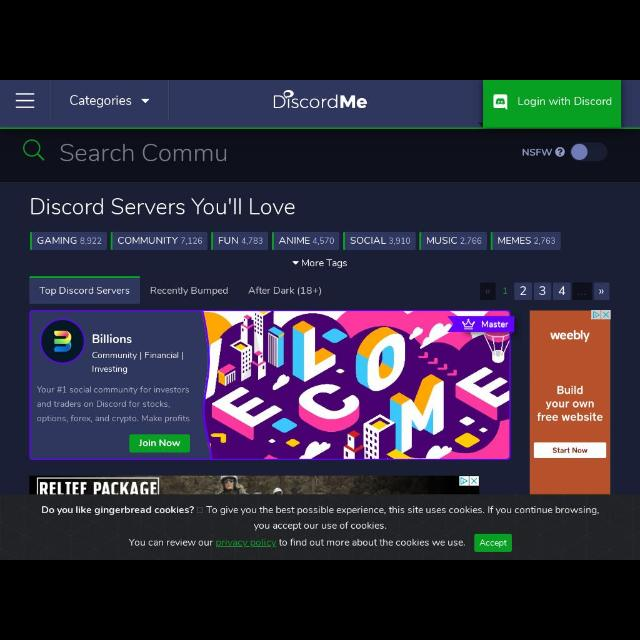button: (483, 82, 621, 128)
icon: (23, 139, 45, 161), (16, 94, 34, 108), (556, 147, 564, 157), (140, 99, 150, 103), (293, 262, 299, 264)
iframe: (530, 310, 610, 494), (29, 476, 479, 494)
image: (29, 310, 514, 460), (274, 90, 366, 108), (494, 94, 508, 110)
link: (218, 540, 276, 548)
spinner: (52, 81, 168, 127), (293, 260, 347, 268)
switch: (570, 142, 608, 162)
text: (41, 506, 598, 532), (32, 198, 294, 215), (61, 144, 227, 162), (129, 539, 465, 547), (518, 97, 612, 107), (40, 286, 130, 296), (70, 95, 132, 108), (249, 286, 321, 296), (118, 237, 202, 245), (150, 287, 228, 295), (350, 237, 410, 246), (38, 237, 102, 245), (280, 237, 334, 245), (498, 238, 554, 245), (427, 238, 481, 245), (302, 260, 346, 268), (219, 237, 263, 245), (522, 148, 552, 156), (479, 540, 506, 548), (520, 286, 526, 296), (539, 286, 545, 296), (559, 287, 565, 295), (503, 288, 507, 294), (486, 290, 490, 294), (599, 290, 603, 294), (578, 294, 586, 294)
textbutton: (30, 277, 140, 303), (110, 232, 208, 250), (30, 232, 106, 250), (343, 232, 415, 250), (491, 232, 561, 250), (272, 232, 340, 250), (419, 232, 487, 250), (212, 232, 268, 250), (474, 534, 512, 552), (572, 283, 592, 299), (514, 283, 532, 299), (533, 283, 551, 299), (554, 283, 570, 299), (480, 283, 496, 299), (594, 283, 610, 299)
toolbar: (1, 80, 639, 128)
